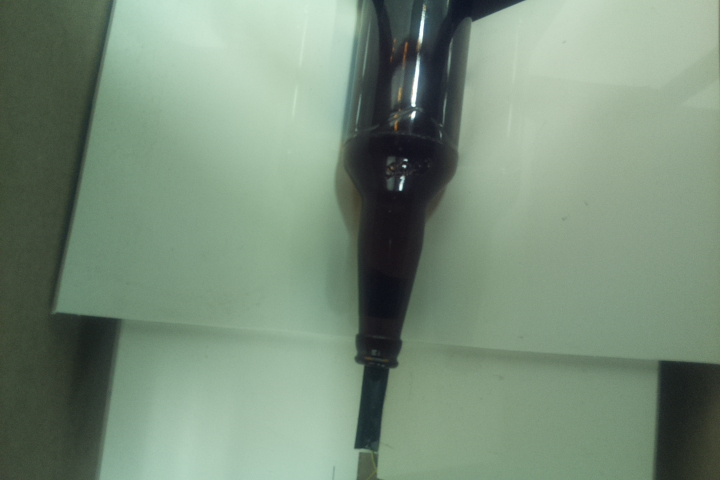makju: (340, 1, 478, 371)
